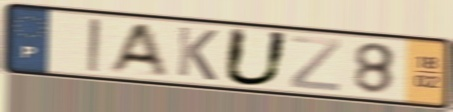8: (350, 40, 399, 96)
A: (103, 22, 171, 76)
I: (85, 16, 104, 75)
K: (174, 24, 220, 83)
U: (220, 25, 293, 89)
Z: (287, 33, 344, 93)
